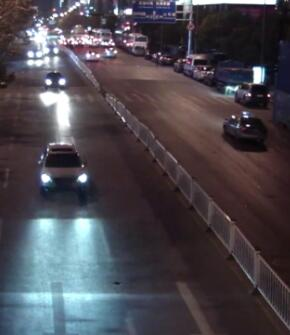bus: (119, 29, 149, 55), (91, 26, 111, 44), (112, 29, 124, 48)
car: (36, 141, 90, 197), (223, 110, 265, 143), (213, 58, 251, 93), (233, 81, 273, 106), (181, 52, 203, 77), (44, 69, 67, 90), (189, 63, 209, 81), (24, 43, 44, 60), (42, 40, 60, 56), (152, 51, 171, 65), (83, 48, 101, 62), (172, 57, 187, 72), (101, 45, 118, 58)
